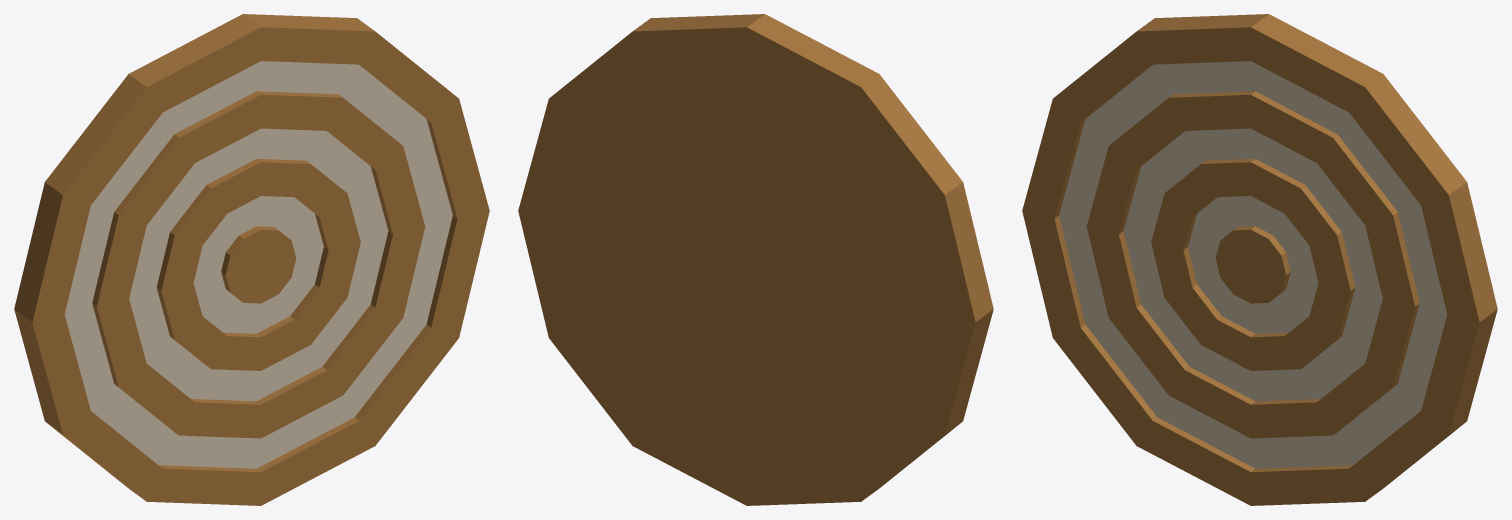
The model's file is Target.fbx.
3 renders of one model, left to right at view 1: azimuth 30°, elevation 25°; view 2: azimuth 150°, elevation 25°; view 3: azimuth 330°, elevation 25°, orthographic.
Visible parts, largest first — view 1: Target; view 2: Target; view 3: Target.
Part boxes in pixels (x1,y1,x2,y2): Target: (14,14,489,505); Target: (518,14,993,505); Target: (1022,14,1497,505).
Size of the model in its own units: 89.71 by 6.18 by 89.71.
